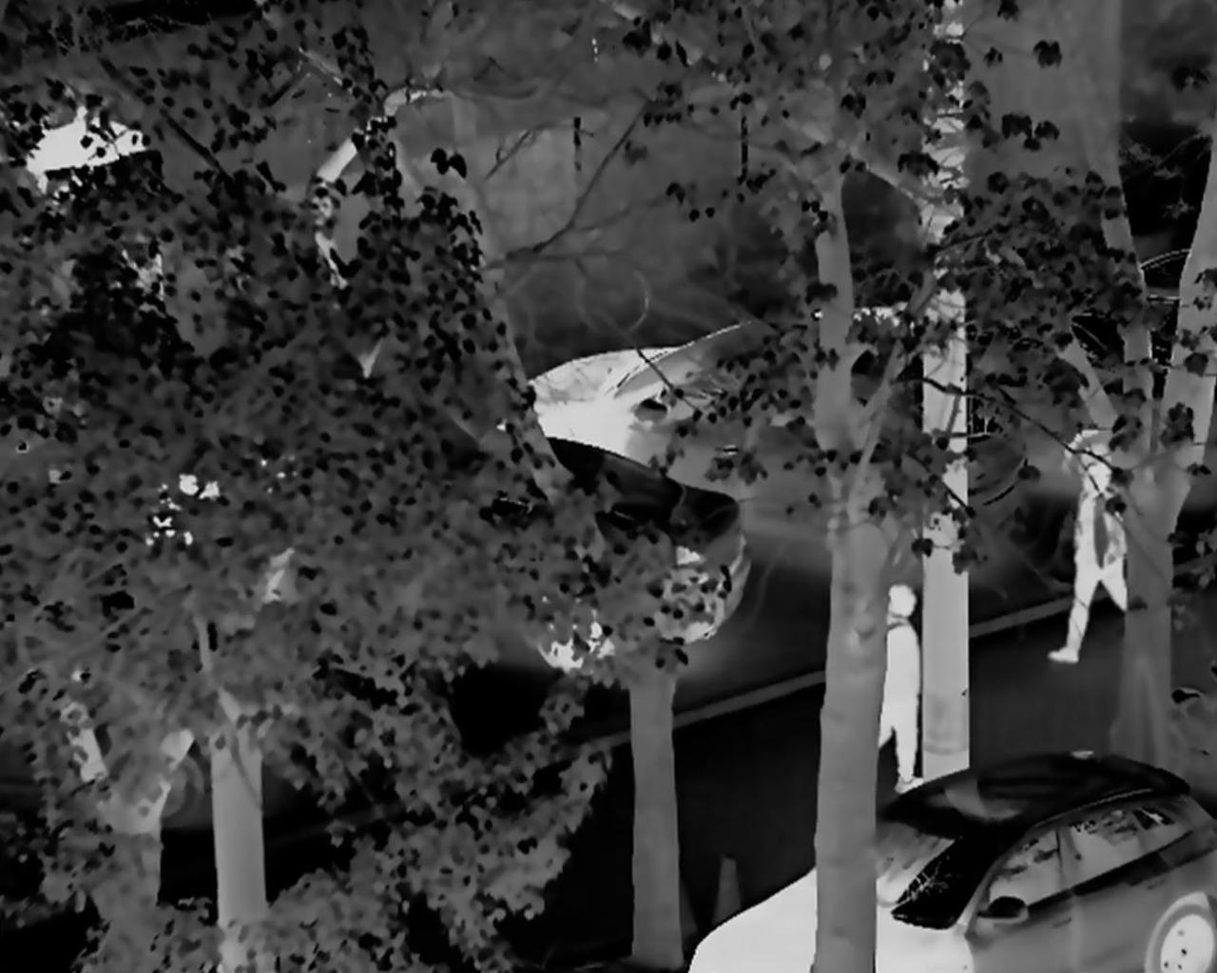person: (1051, 435, 1127, 672), (868, 578, 927, 793)
